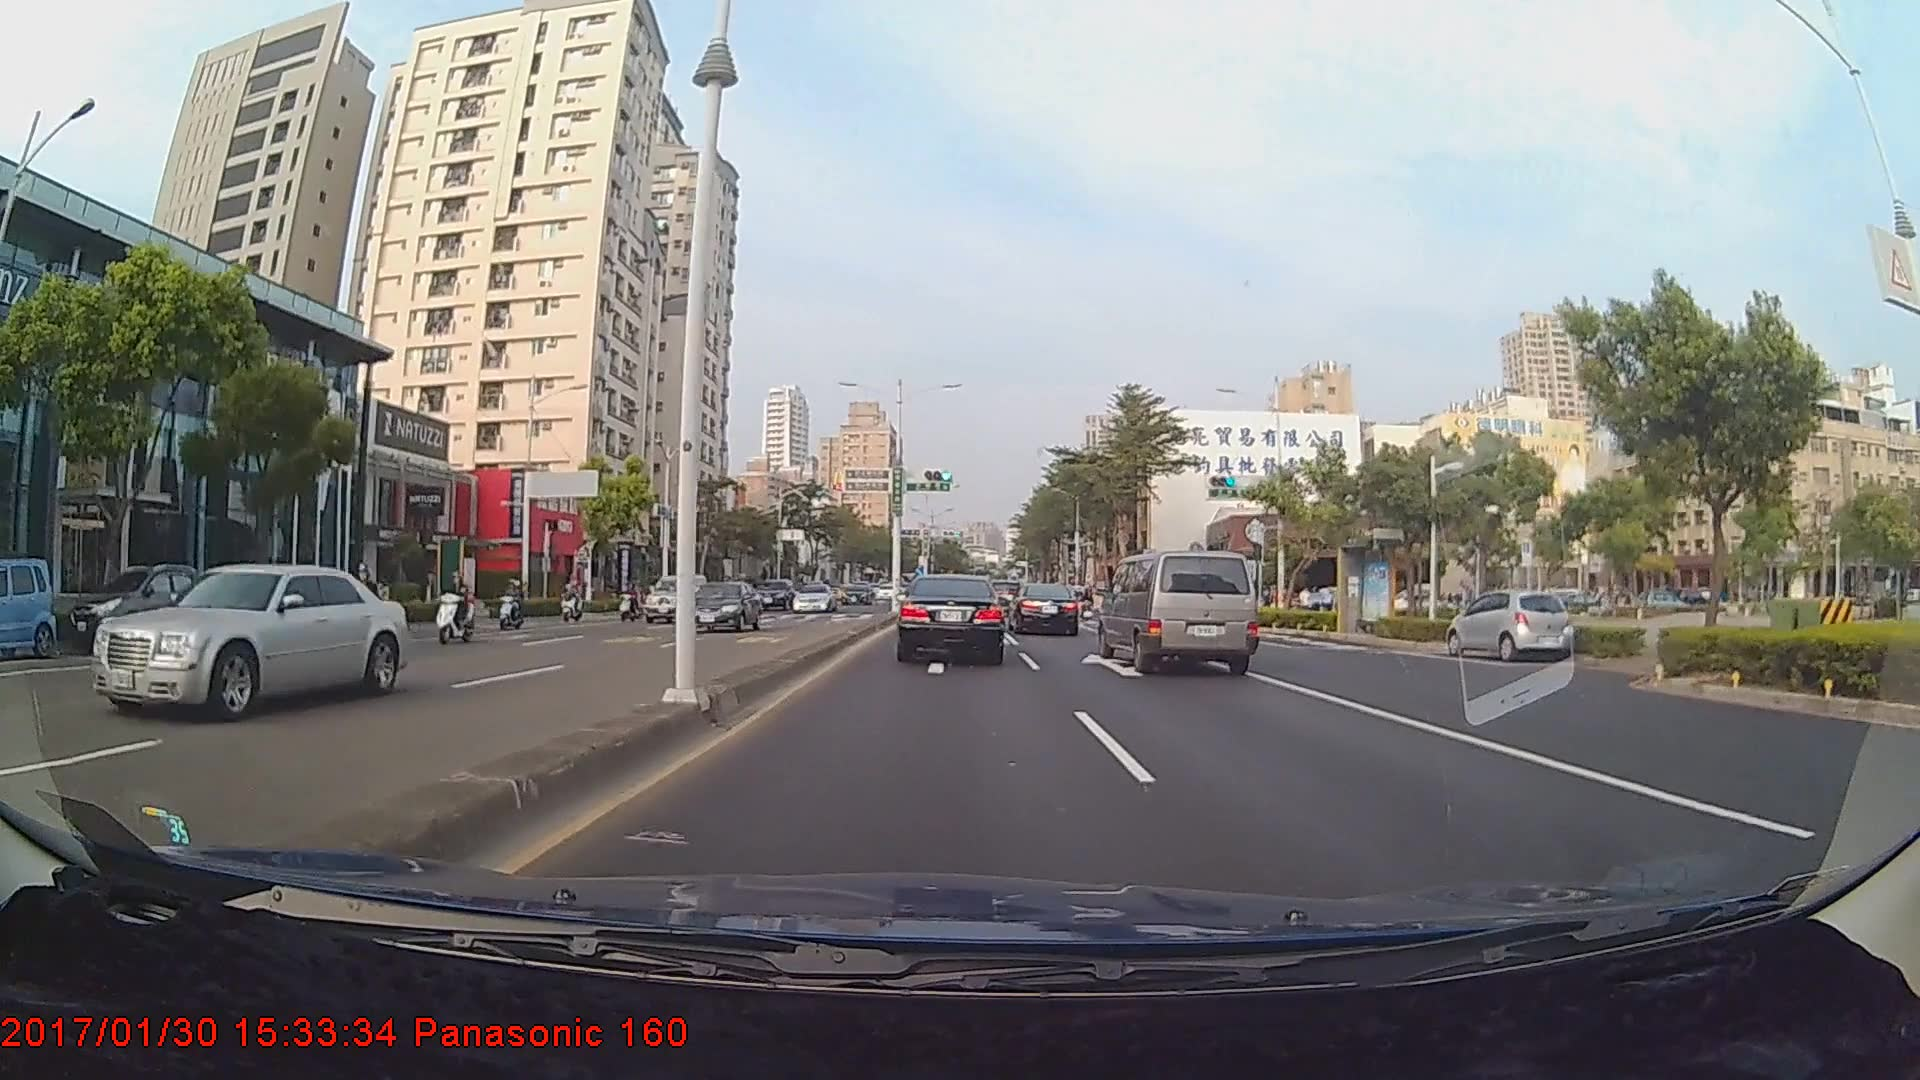rider: (431, 567, 482, 646)
vehicle: (87, 562, 407, 721), (1097, 544, 1260, 676), (68, 564, 211, 651), (899, 572, 1005, 663), (1448, 589, 1574, 663), (0, 556, 59, 661), (1005, 582, 1081, 637), (696, 581, 771, 633), (641, 572, 711, 622), (790, 583, 837, 614), (753, 577, 794, 612), (840, 581, 876, 606)
